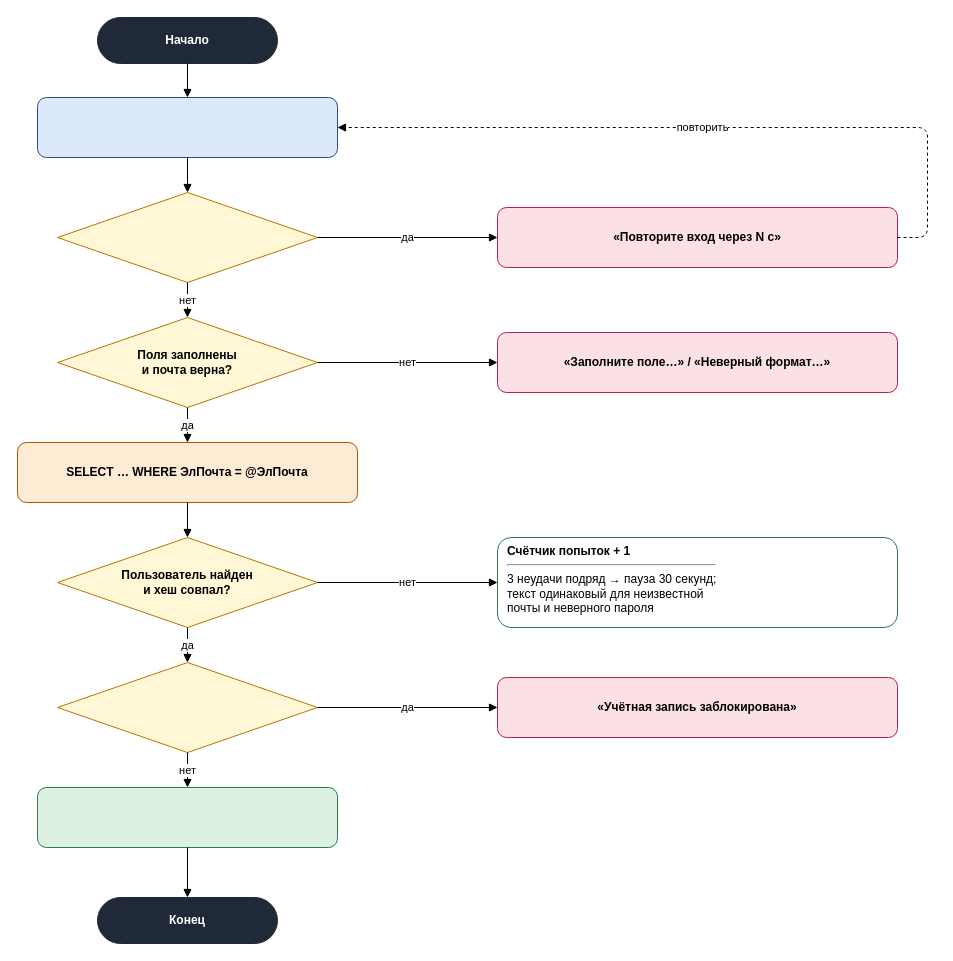
Some shapes in this 953 by 961 pixel diagram are drawn without their labels. The shapes that lost their labels are listed below. From the top down, each one's centre as x and y in pixels, then its label:
At (187,127): "Ввод эл. почты и пароля".
At (187,237): "Вход приостановлен?".
At (187,707): "Учётная запись заблокирована?".
At (187,817): "Открыть главное окно по роли".
